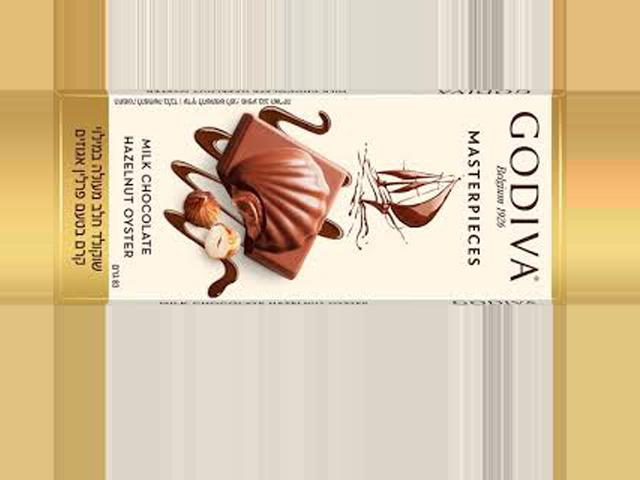chocolate: (55, 92, 565, 304)
